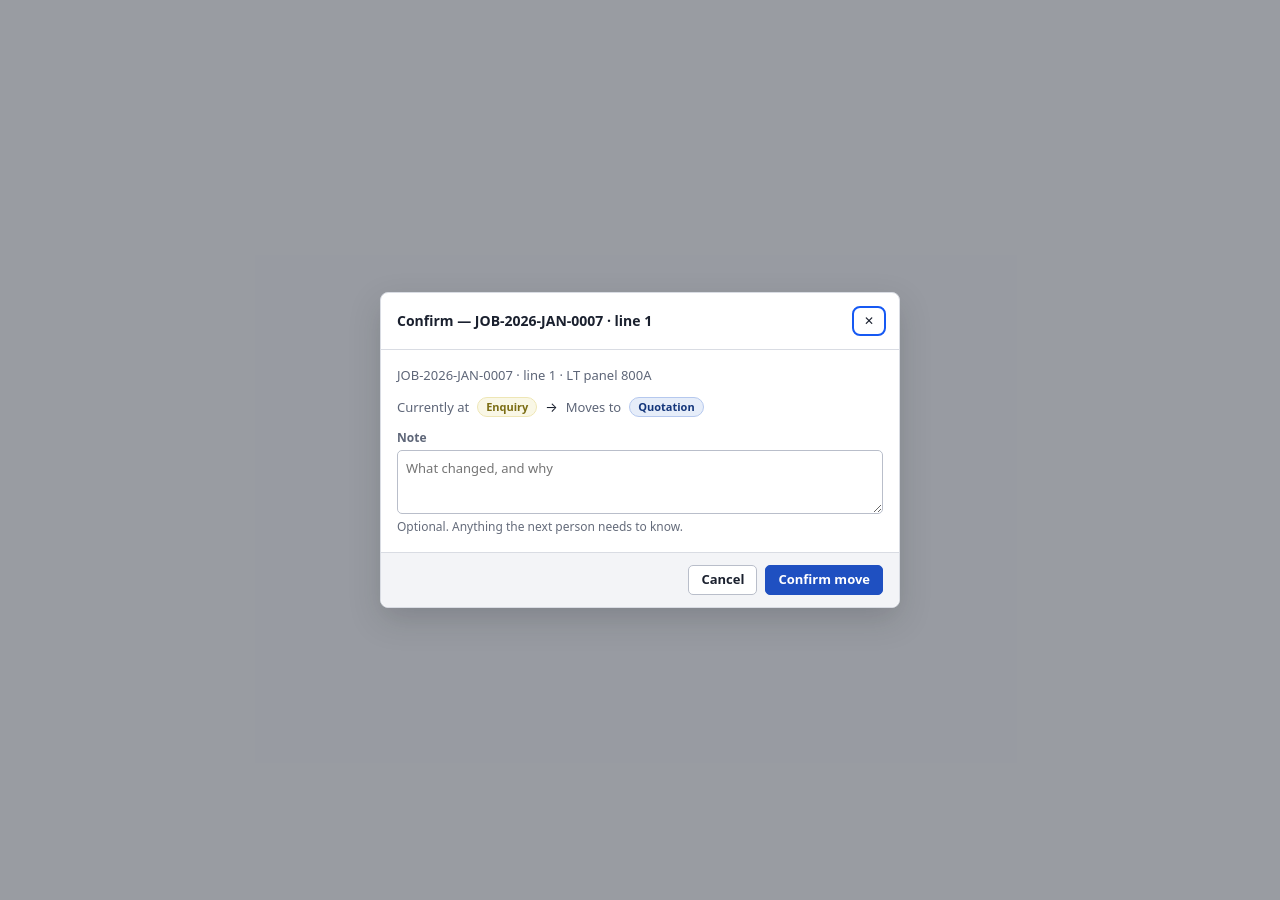
Test case: TransitionDialog › shows the server's reason when a rule refuses the move
Click the button "Confirm move" at {"x": 824, "y": 580}, box top-left (766, 565), bottom-right (883, 595)
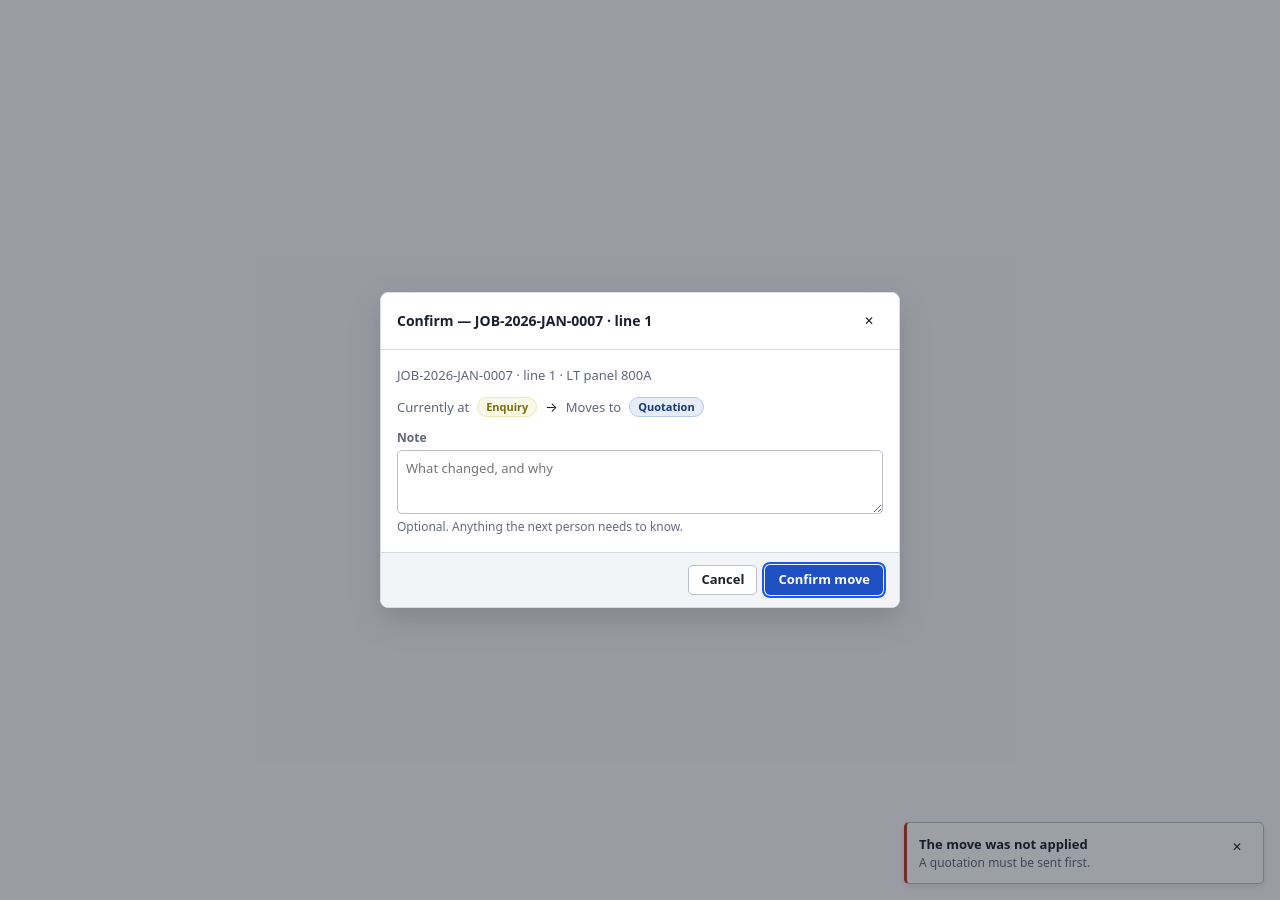
Result: the text "A quotation must be sent first." is shown at top-left (919, 854), bottom-right (1090, 871)
